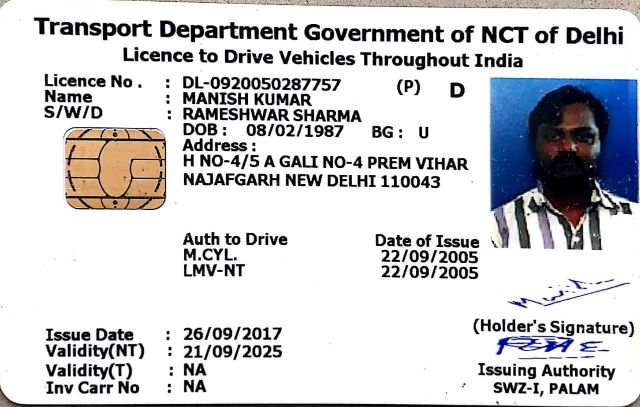text: (43, 69, 342, 89), (44, 105, 366, 120), (41, 92, 319, 104), (183, 122, 346, 137)
